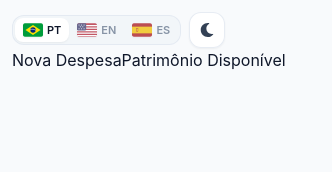
ThemeAndLangControls › switches between pt-BR, en-US and es-ES flag buttons and persists pm_language
The image size is (332, 172).
expect the text with test id "probe-new-expense" reads "Nova Despesa": met, box [12,50,122,70]
expect the text with test id "probe-balance-title" reads "Patrimônio Disponível": met, box [122,50,286,70]
Click the button with test id "lang-btn-en-US". click: (97, 30)
box: [69,18,124,42]
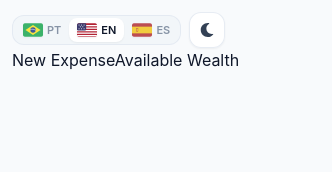
expect the text with test id "probe-new-expense" reads "New Expense": met, box [12,50,115,70]
expect the text with test id "probe-balance-title" reads "Available Wealth": met, box [115,50,239,70]
Click the button with test id "lang-btn-es-ES". click: (151, 30)
box: [124,18,178,42]
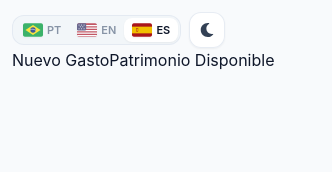
expect the text with test id "probe-new-expense" reads "Nuevo Gasto": met, box [12,50,109,70]
expect the text with test id "probe-balance-title" reads "Patrimonio Disponible": met, box [109,50,274,70]
